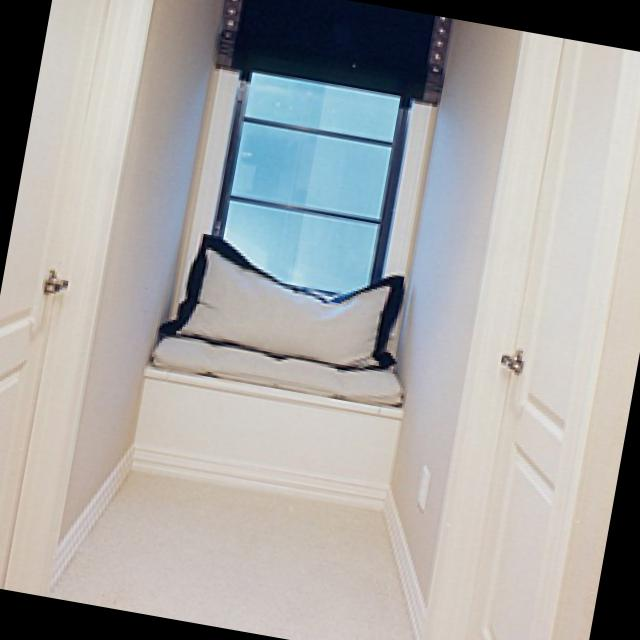2007: (126, 328, 403, 503)
blind: (211, 0, 447, 99)
cushion occluded: (157, 226, 400, 365)
door bars: (449, 37, 640, 640)
doorframe: (418, 30, 557, 640)
socket: (409, 460, 427, 505)
